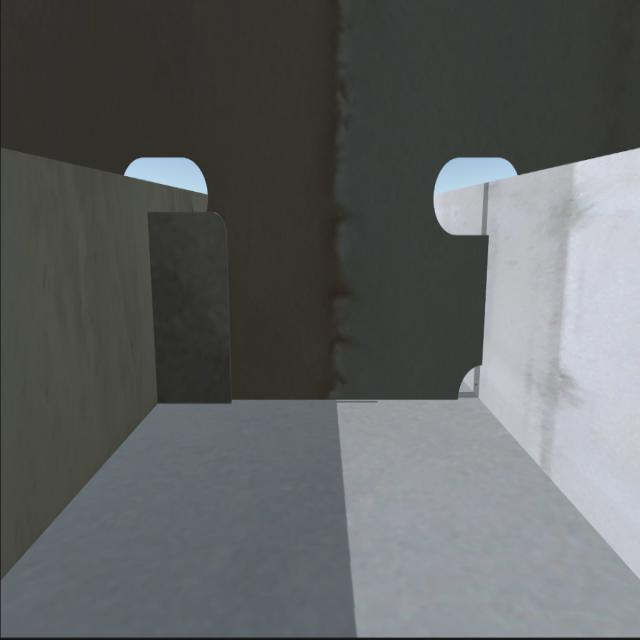fillet_hole: (452, 360, 485, 400)
fillet_yong_jeop_jang: (159, 390, 458, 407)
longi_yong_jeop_jang: (146, 213, 166, 402), (479, 232, 489, 362)
plate_CP05: (152, 216, 232, 400)
